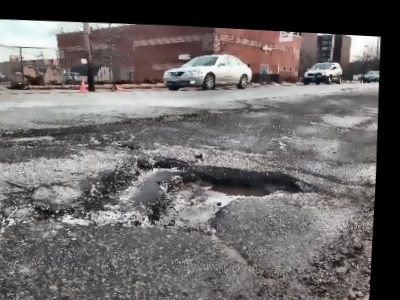pothole: (59, 148, 305, 239), (1, 127, 68, 152)
